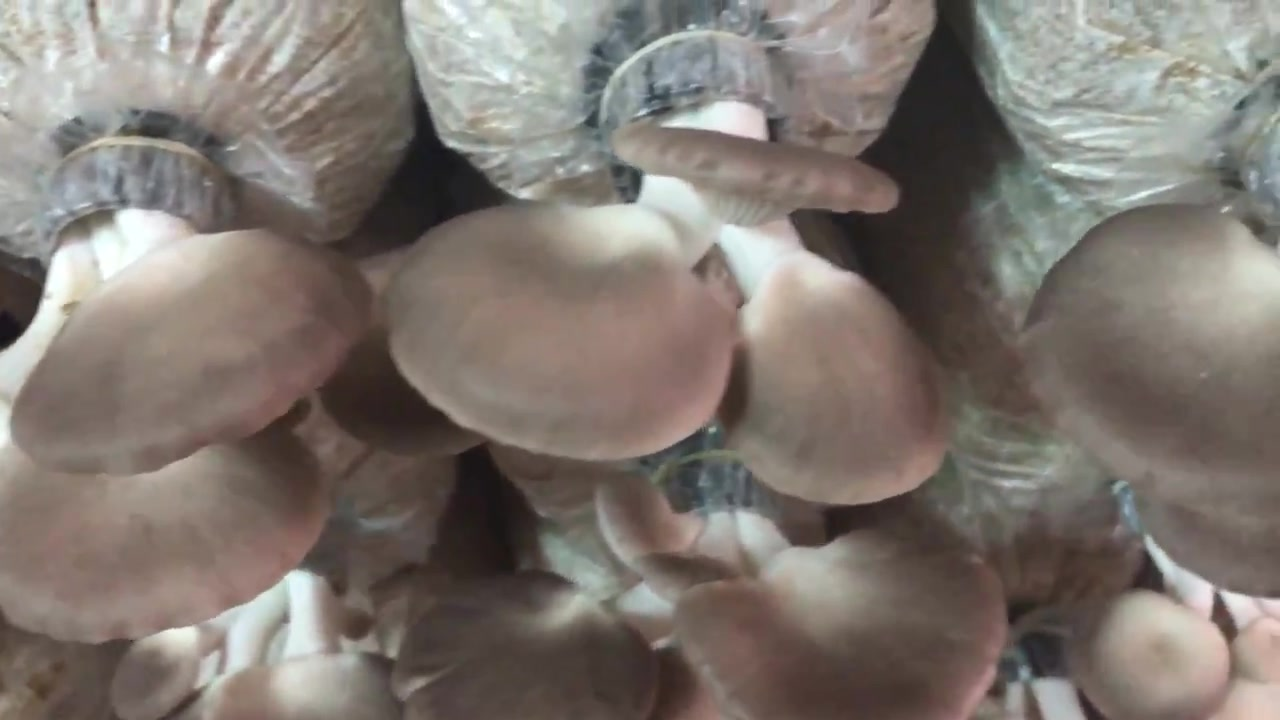nam: (389, 28, 950, 506), (1, 131, 367, 637), (393, 446, 1007, 716), (1023, 206, 1280, 600), (1071, 478, 1280, 717)
